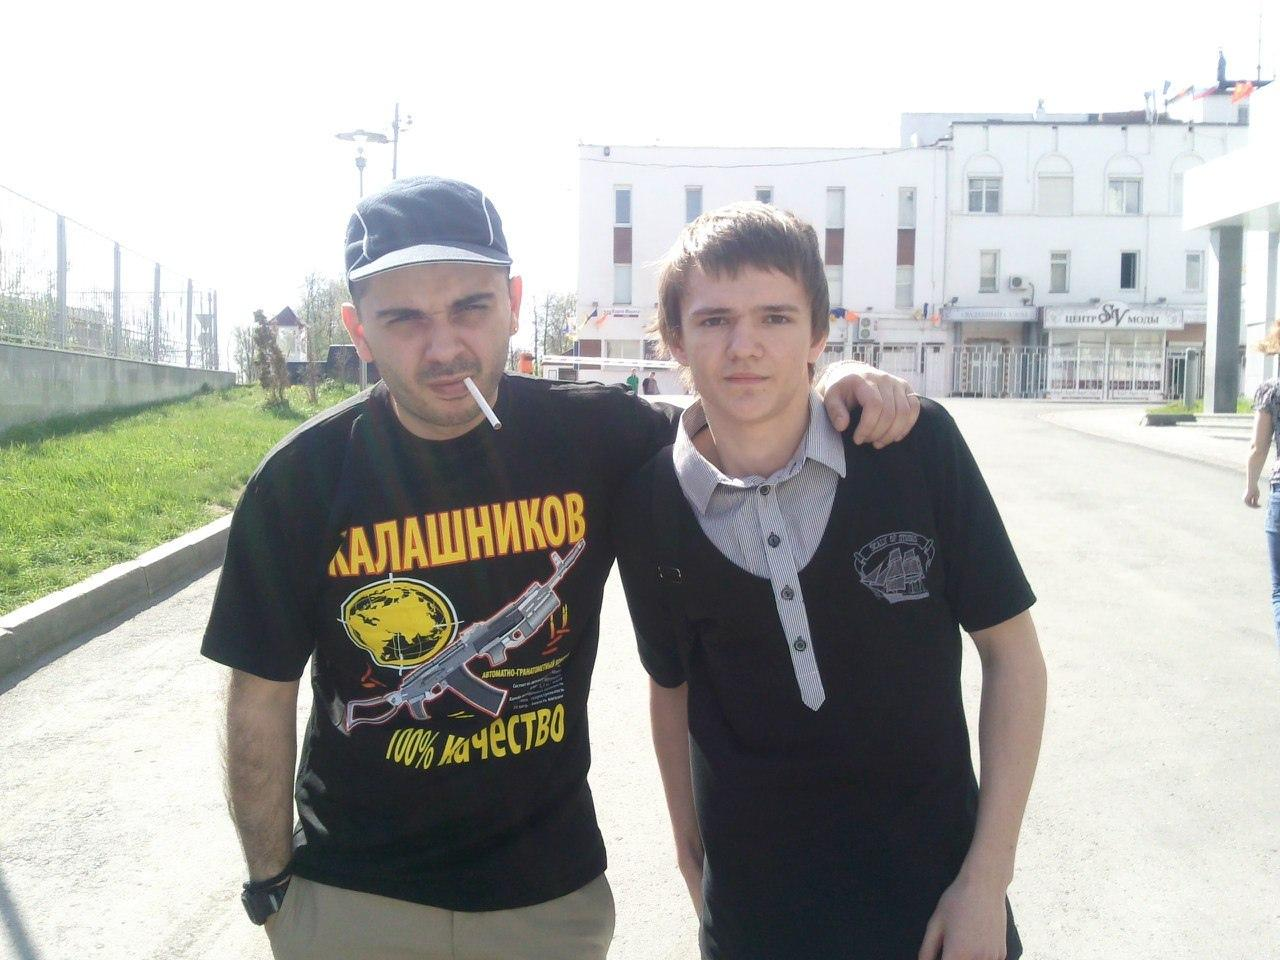cigarette: (463, 376, 503, 432)
